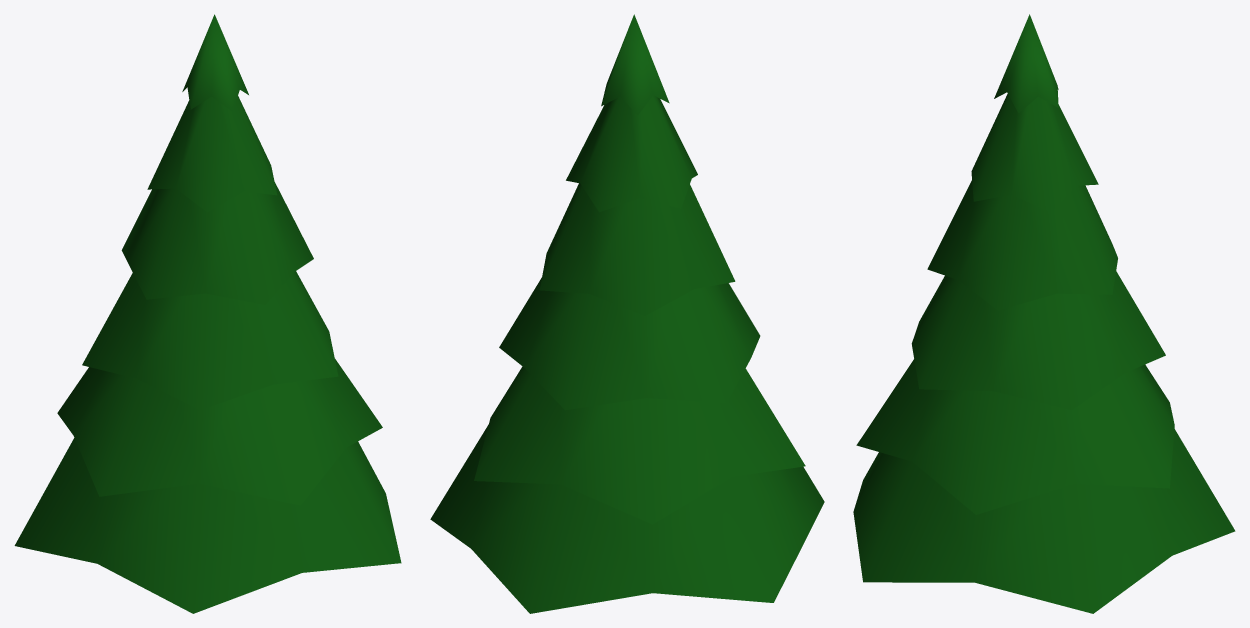
File: cpsMap_TreeLeaves.obj
3 views of the same model, side by side, from view 1: azimuth 30°, elevation 25°; view 2: azimuth 150°, elevation 25°; view 3: azimuth 270°, elevation 25° (orthographic).
Parts seen in each view (by area): view 1: Tree.002_Cylinder.003; view 2: Tree.002_Cylinder.003; view 3: Tree.002_Cylinder.003.
Boxes of the visible parts, left/top/right/bottom form: Tree.002_Cylinder.003: left=14, top=14, right=401, bottom=613; Tree.002_Cylinder.003: left=430, top=14, right=824, bottom=613; Tree.002_Cylinder.003: left=853, top=14, right=1235, bottom=613.
Size of the model in its own units: 4.45 by 6.48 by 4.34.
